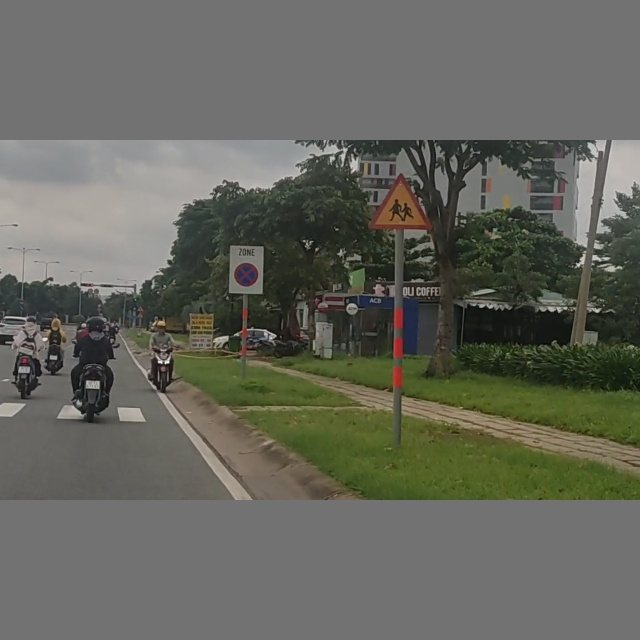P.102: (19, 299, 24, 305)
P.130: (234, 262, 259, 287)
R.302a: (19, 305, 25, 311)
W.225: (369, 173, 433, 231)
